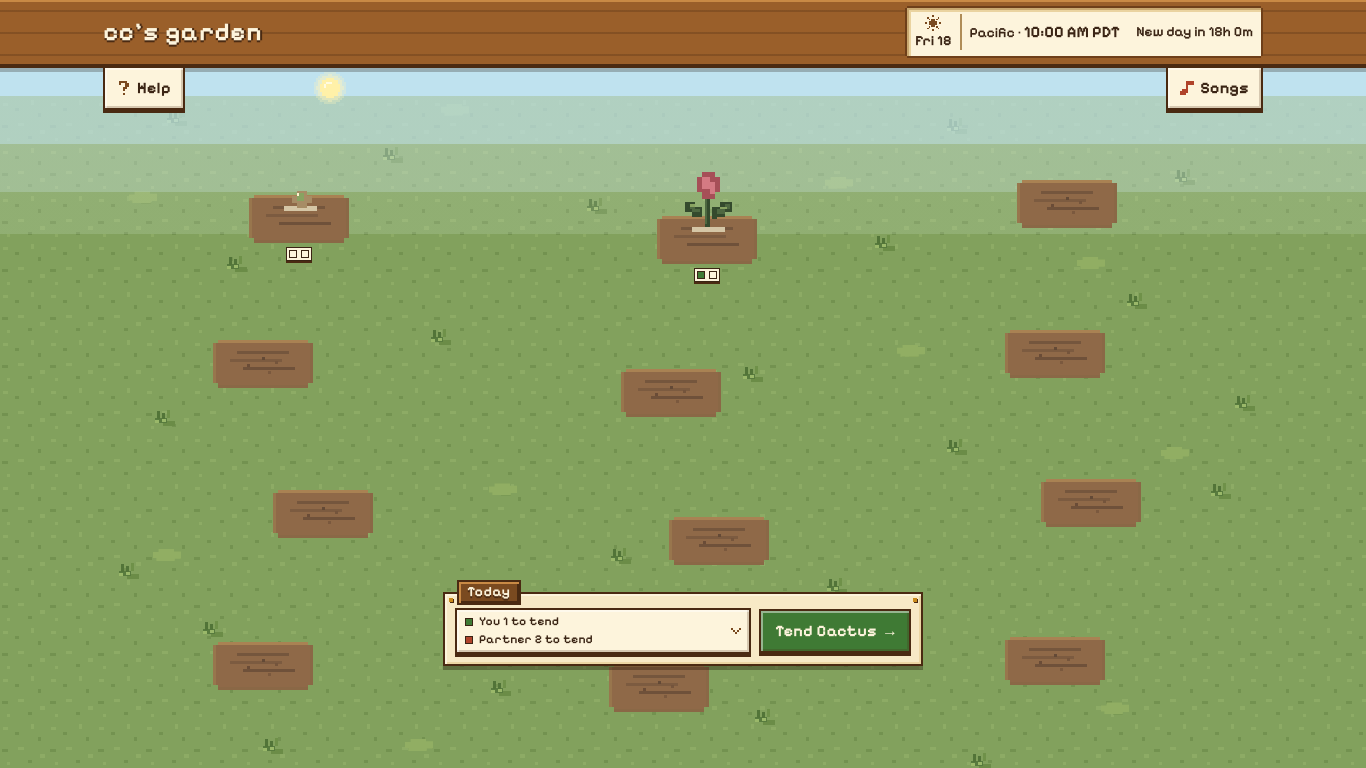
Test: absorbs blooms, unlocks and badges from your own action opened by tapping the flower and still shows partner care
The image size is (1366, 768).
Click the button named "Cactus, spot 1": (299, 197) 242,130 -> 356,264
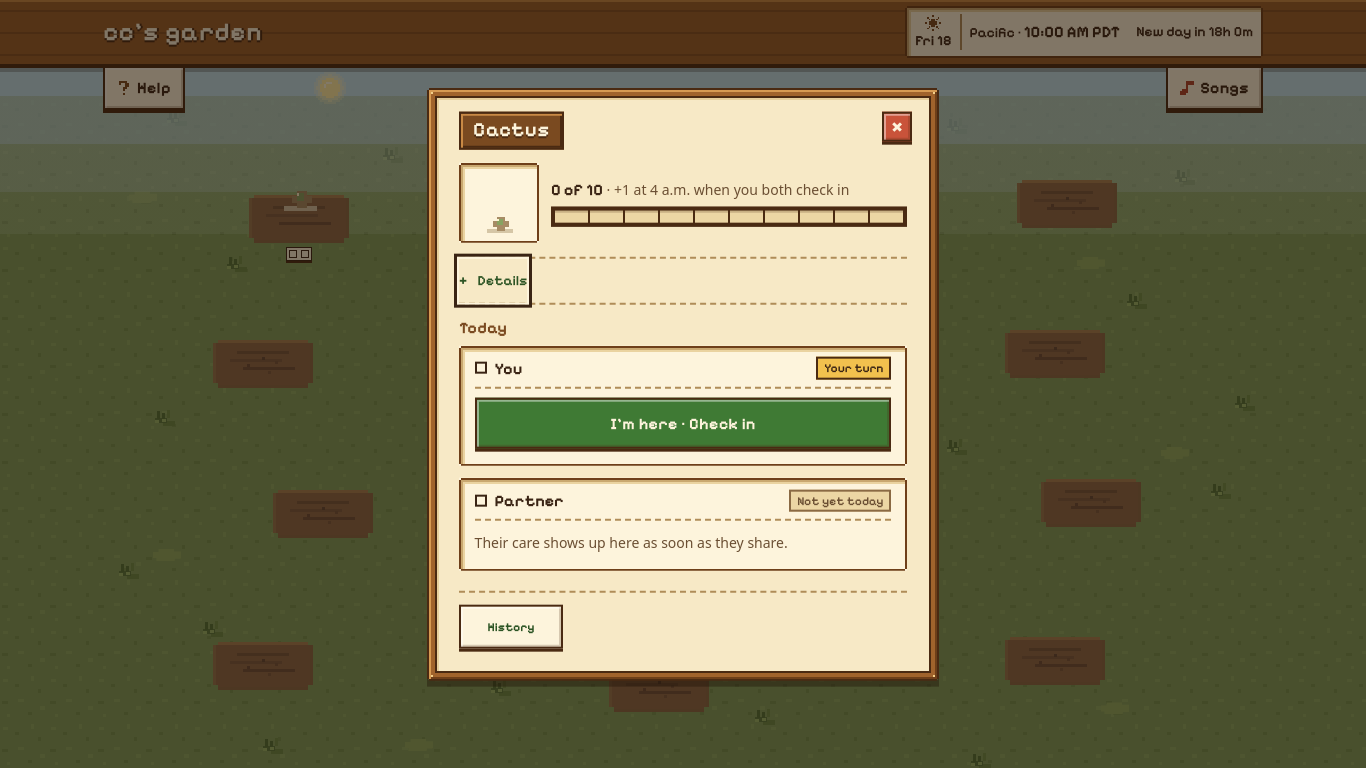
Click the button "I’m here · Check in": (683, 423) 475,398 -> 891,448
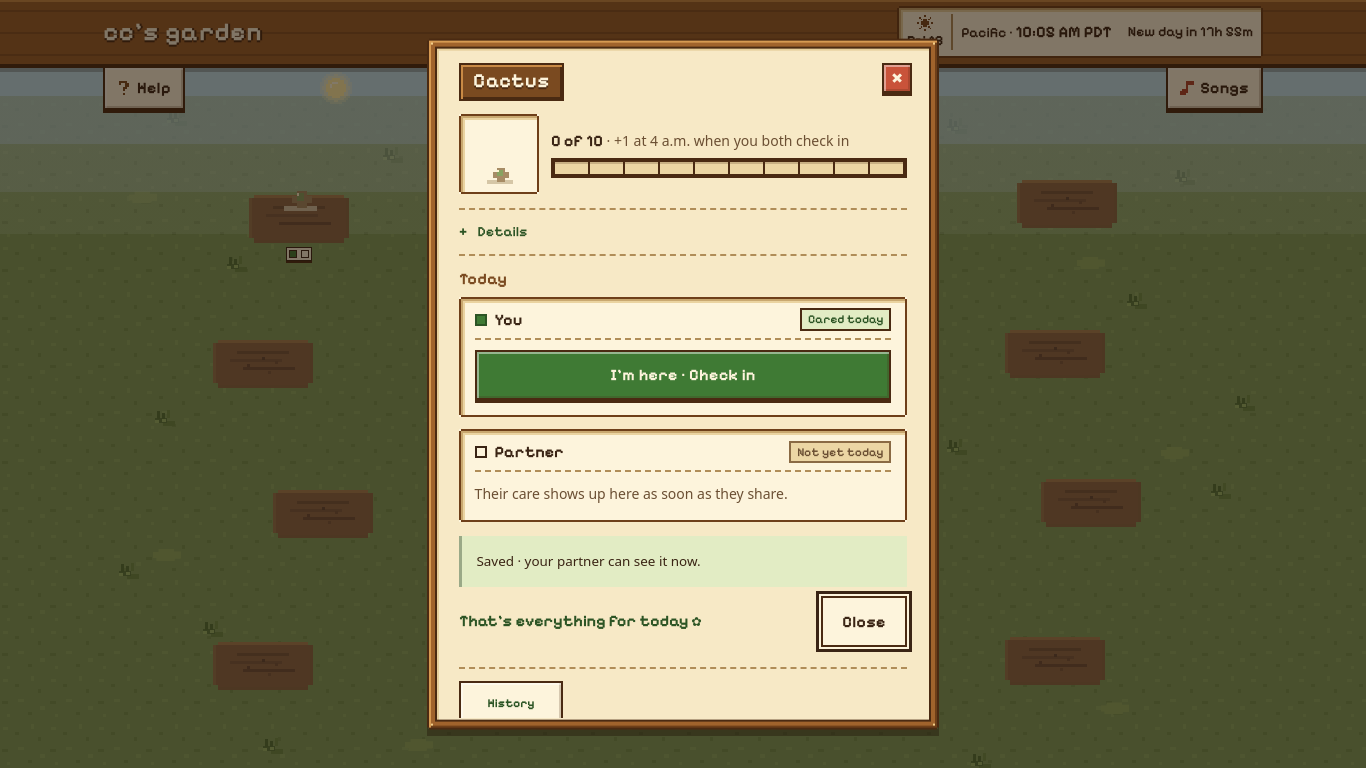
Press Escape
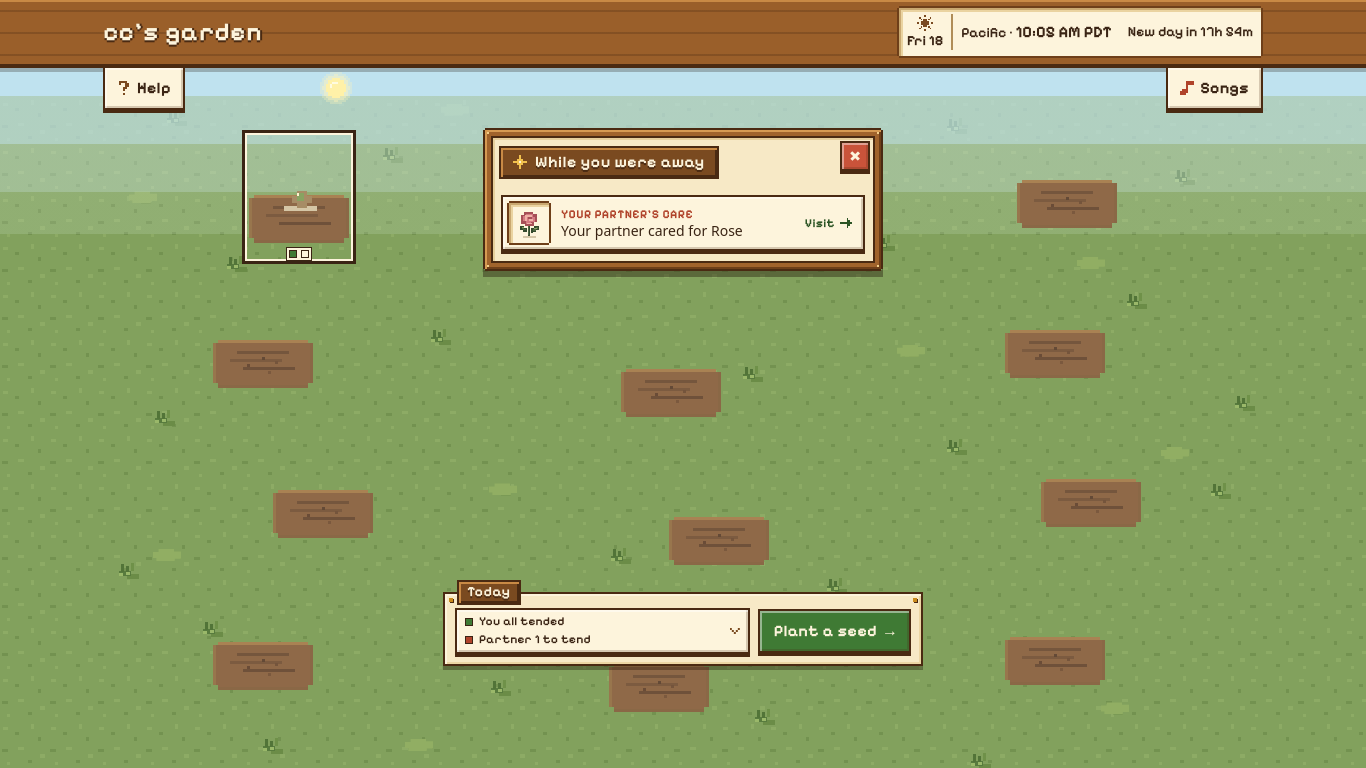
Result: the dialog is gone
Result: the text "Your partner cared for Rose" is shown at 561,221 -> 743,240
